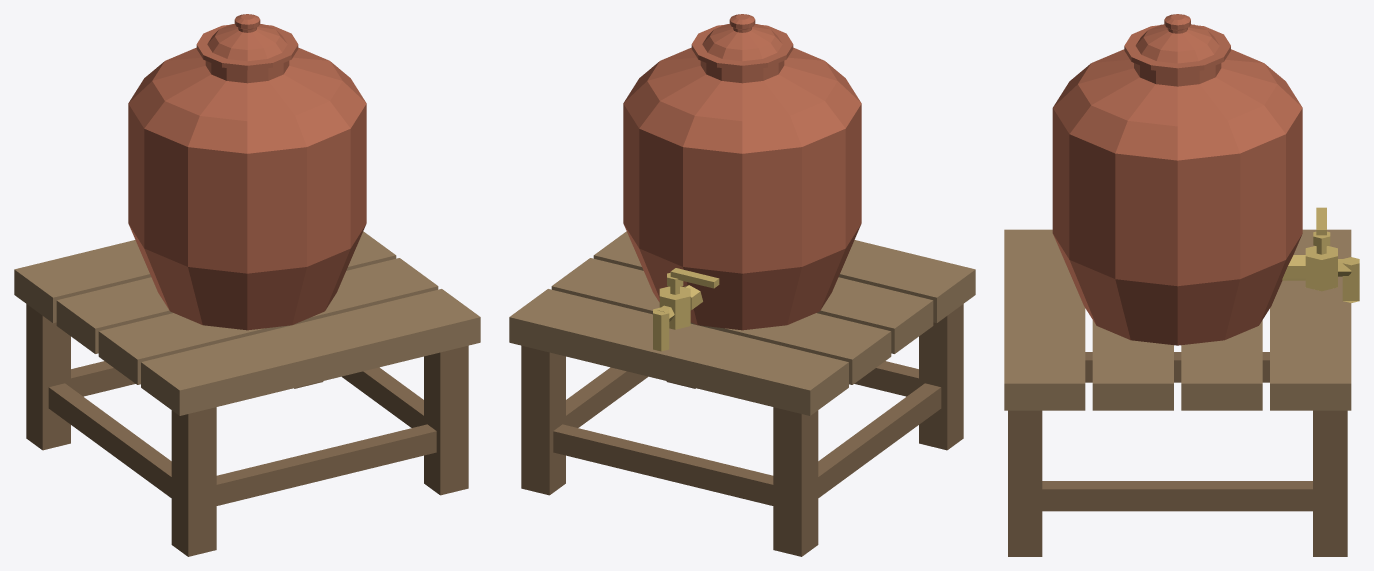
The model's file is Storage_Tapayan.fbx.
The picture shows the model from 3 angles, left to right: view 1: azimuth 30°, elevation 25°; view 2: azimuth 150°, elevation 25°; view 3: azimuth 270°, elevation 25°; orthographic projection. The views are drawn at different scales.
Parts seen in each view (by area): view 1: Tapayan Stand, Tapayan Jar, Tapayan Lid; view 2: Tapayan Stand, Tapayan Jar, Tapayan Lid, Tapayan Tap; view 3: Tapayan Jar, Tapayan Stand, Tapayan Lid, Tapayan Tap.
Part boxes in pixels (box(x1,y1,x2,y2)): Tapayan Stand: box(14, 231, 480, 556); Tapayan Jar: box(128, 47, 366, 330); Tapayan Lid: box(196, 14, 298, 70); Tapayan Stand: box(509, 231, 975, 556); Tapayan Jar: box(623, 47, 861, 330); Tapayan Lid: box(691, 14, 793, 70); Tapayan Tap: box(653, 268, 719, 351); Tapayan Jar: box(1052, 49, 1302, 345); Tapayan Stand: box(1004, 229, 1351, 556); Tapayan Lid: box(1124, 14, 1230, 72); Tapayan Tap: box(1282, 207, 1359, 303).
Bounding box in the file's own units: 0.74 × 0.7223 × 1.05.
